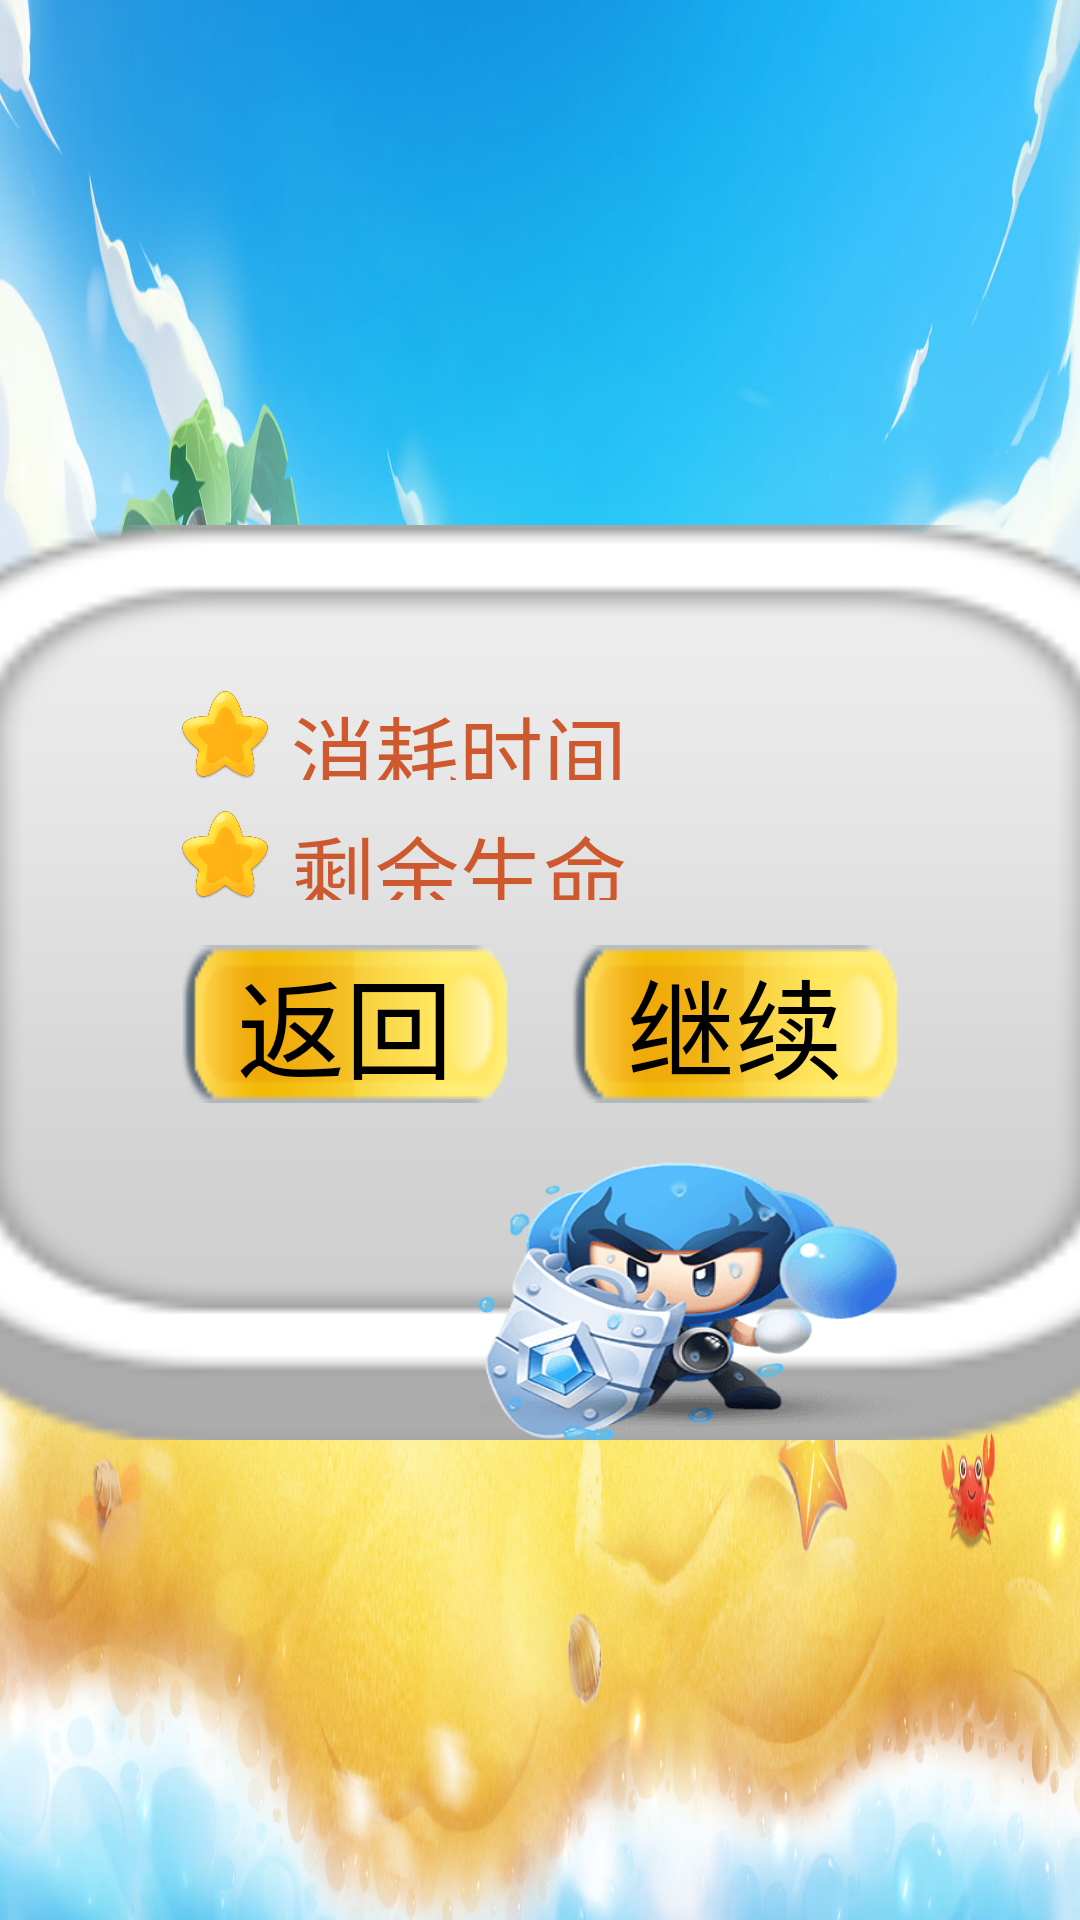

Where icons sit on this 1080*1920 app screen, as (x1,y1,x2,y2):
star: (182,691,268,778), (182,811,268,898)
